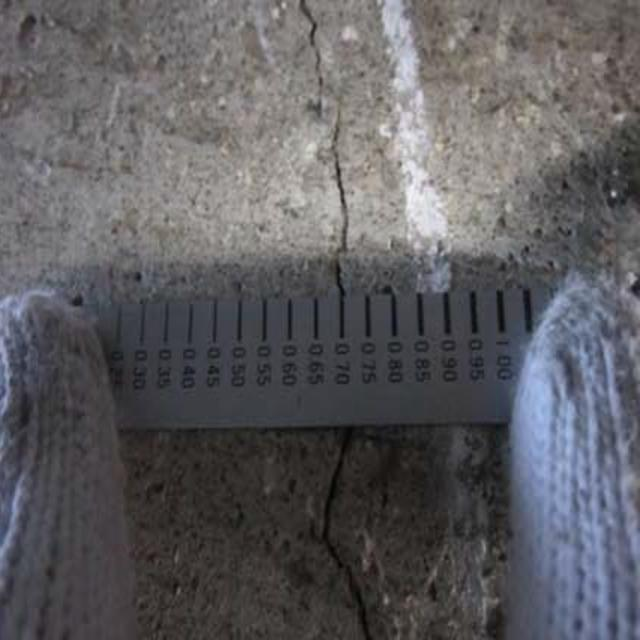crack: (292, 9, 358, 290), (304, 431, 383, 640)
